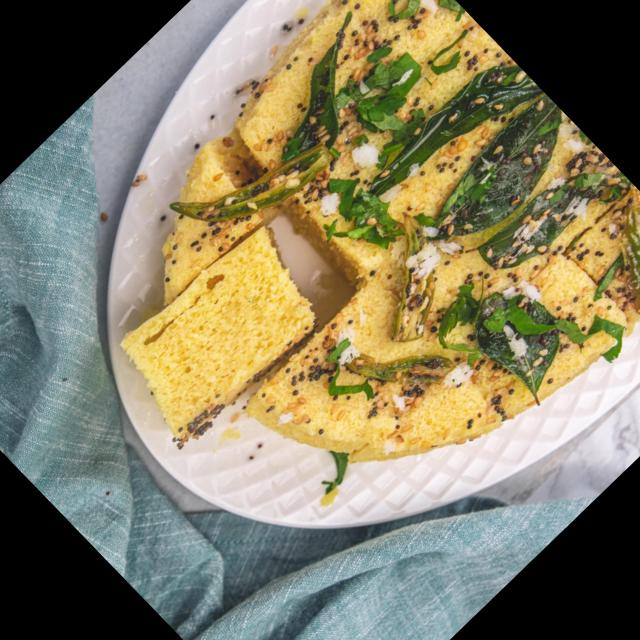dhokla: (45, 0, 640, 601)
